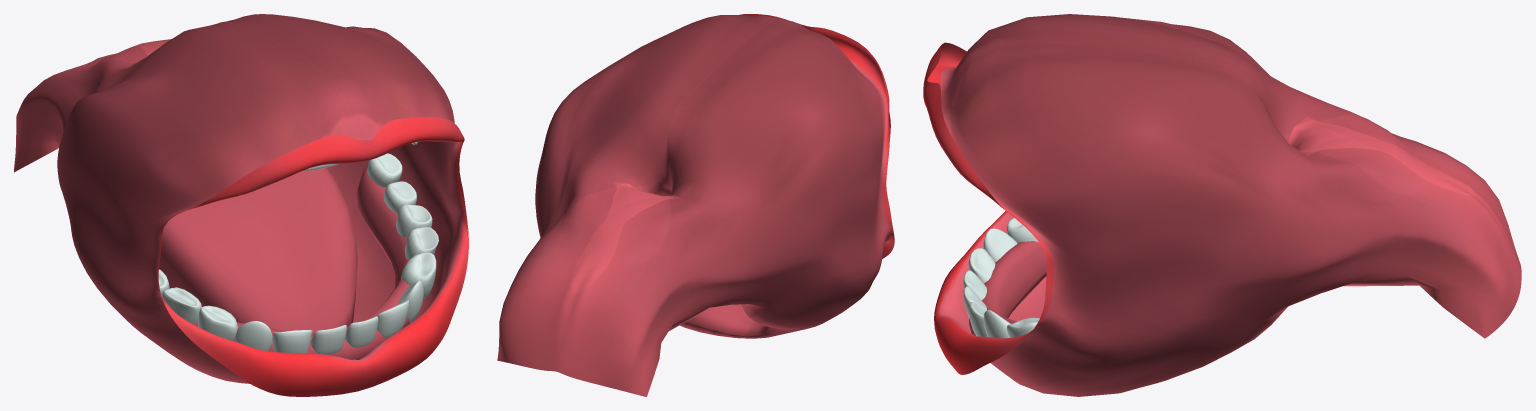
The model's file is BOCA (1).fbx.
3 renders of one model, left to right at view 1: azimuth 30°, elevation 25°; view 2: azimuth 150°, elevation 25°; view 3: azimuth 270°, elevation 25°, orthographic. The views are drawn at different scales.
Visible parts, largest first — view 1: Plane.002; view 2: Plane.002; view 3: Plane.002.
Part boxes in pixels (x1,y1,x2,y2): Plane.002: [14, 14, 468, 396]; Plane.002: [497, 14, 894, 396]; Plane.002: [923, 14, 1521, 396].
Bounding box in the file's own units: 482 × 326 × 295.
